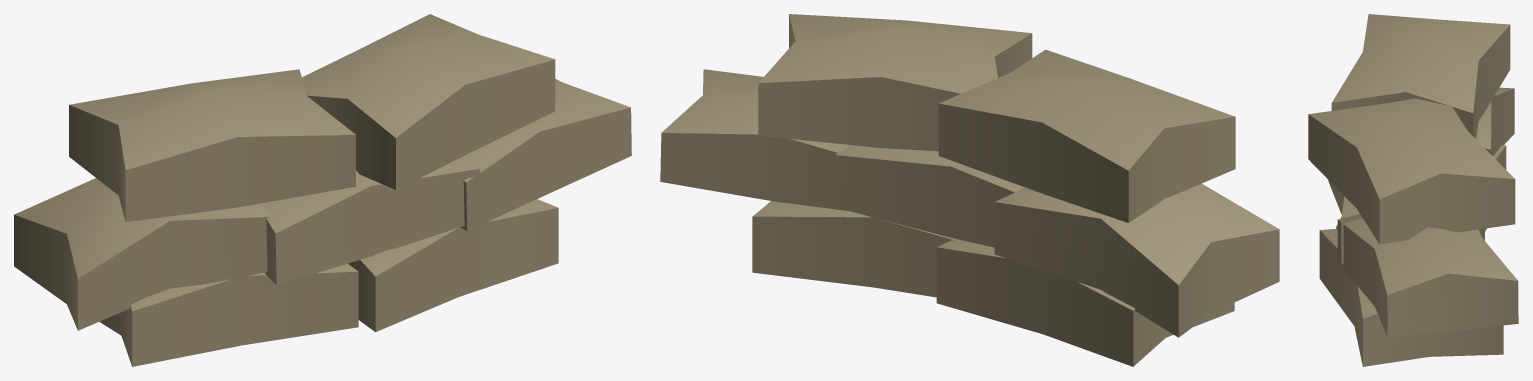
File: SackTrench_Small.gltf
The picture shows the model from 3 angles, left to right: view 1: azimuth 30°, elevation 25°; view 2: azimuth 150°, elevation 25°; view 3: azimuth 270°, elevation 25°; orthographic projection. The views are drawn at different scales.
Visible parts, largest first — view 1: SackTrench_Small; view 2: SackTrench_Small; view 3: SackTrench_Small.
Boxes of the visible parts, left/top/right/bottom form: SackTrench_Small: left=14, top=14, right=631, bottom=366; SackTrench_Small: left=660, top=14, right=1279, bottom=366; SackTrench_Small: left=1308, top=14, right=1518, bottom=366.
Size of the model in its own units: 2.48 by 1 by 0.9208.
